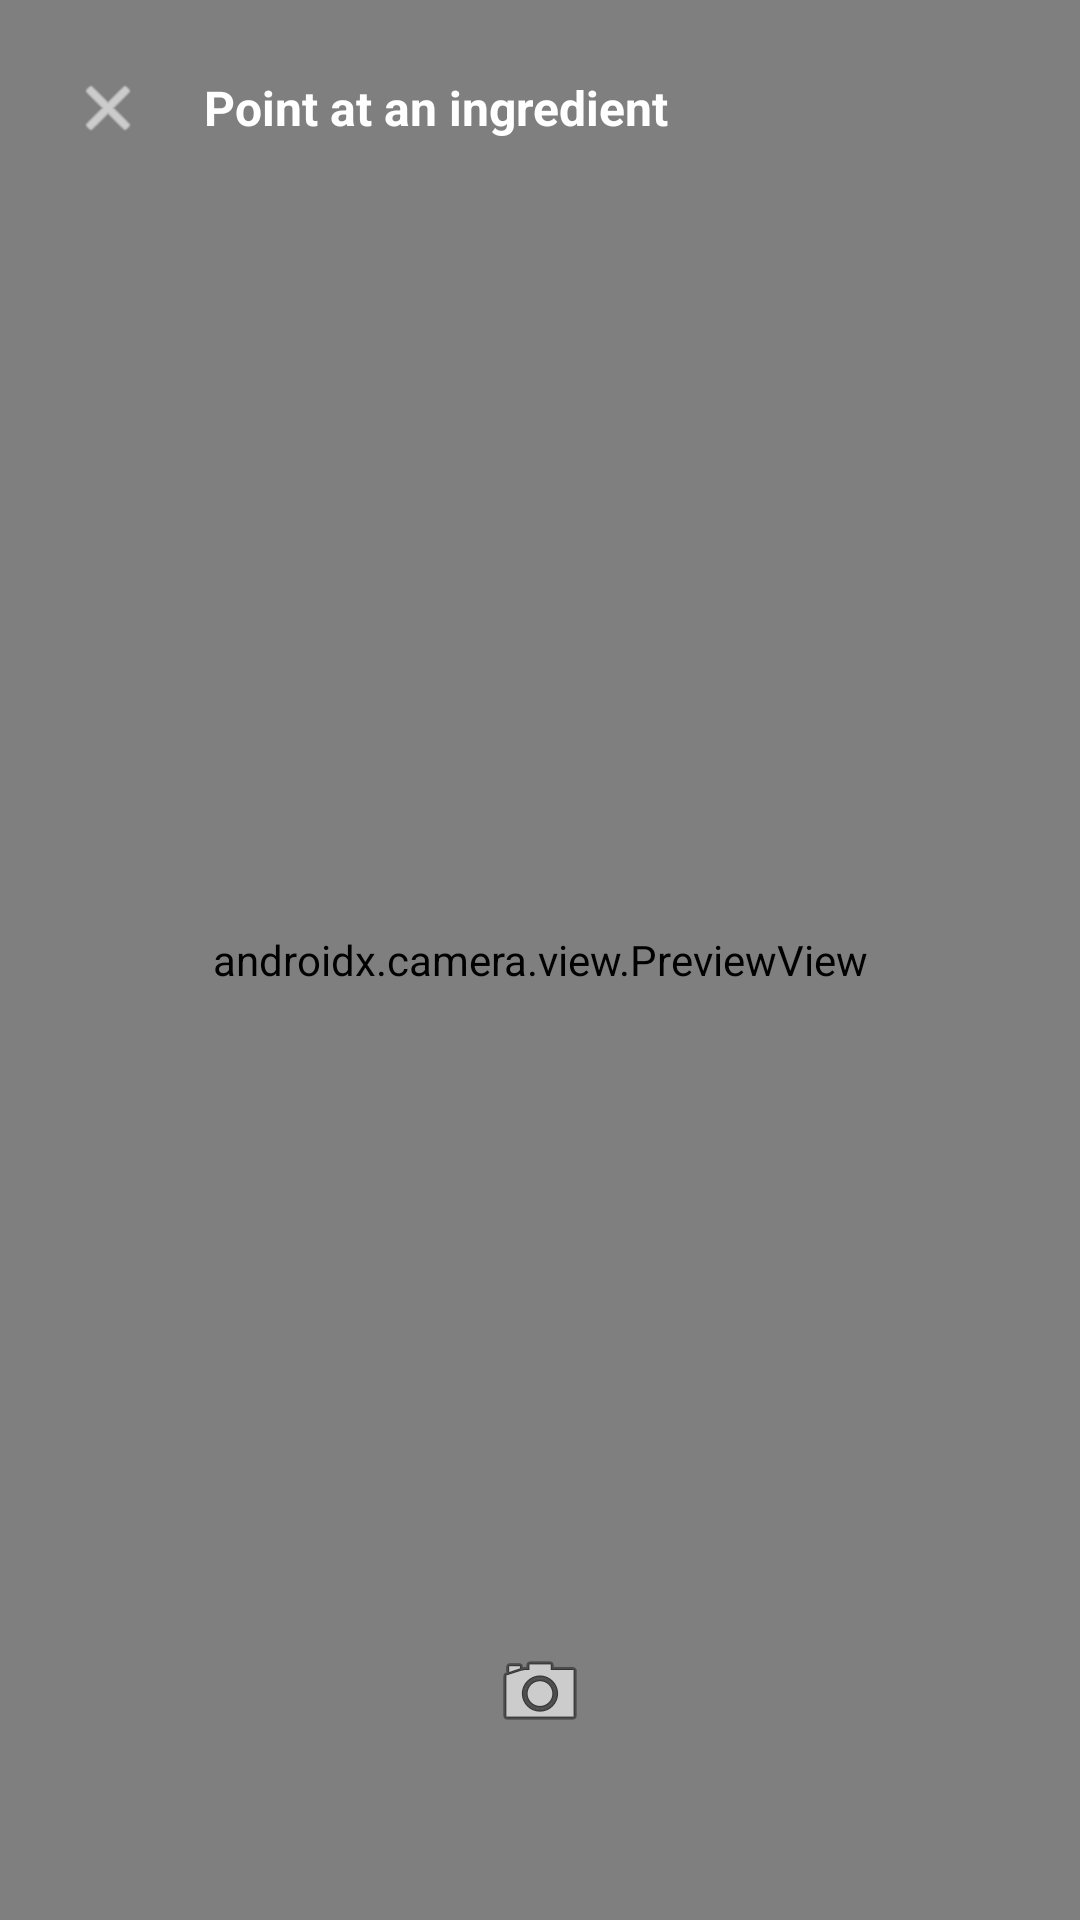

Screen size 1080 × 1920. Icon name, then its box in pixels as Rect(x1, y1, x2, y2):
Capture: Rect(503, 1661, 577, 1720)
Close: Rect(86, 86, 130, 130)
